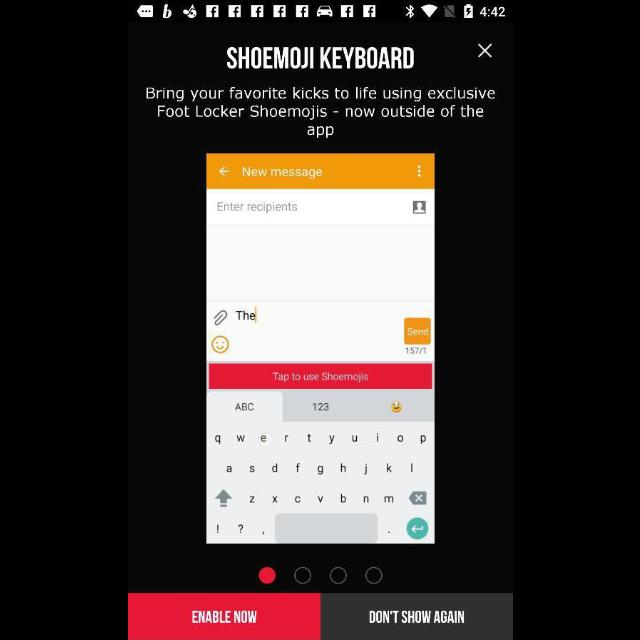icon: (476, 44, 492, 58)
image: (206, 154, 434, 544)
pageindicator: (258, 566, 382, 584)
text: (146, 88, 494, 138), (226, 47, 414, 69)
textbutton: (128, 592, 320, 640), (320, 592, 512, 640)
uppertaskbar: (128, 2, 512, 20)
